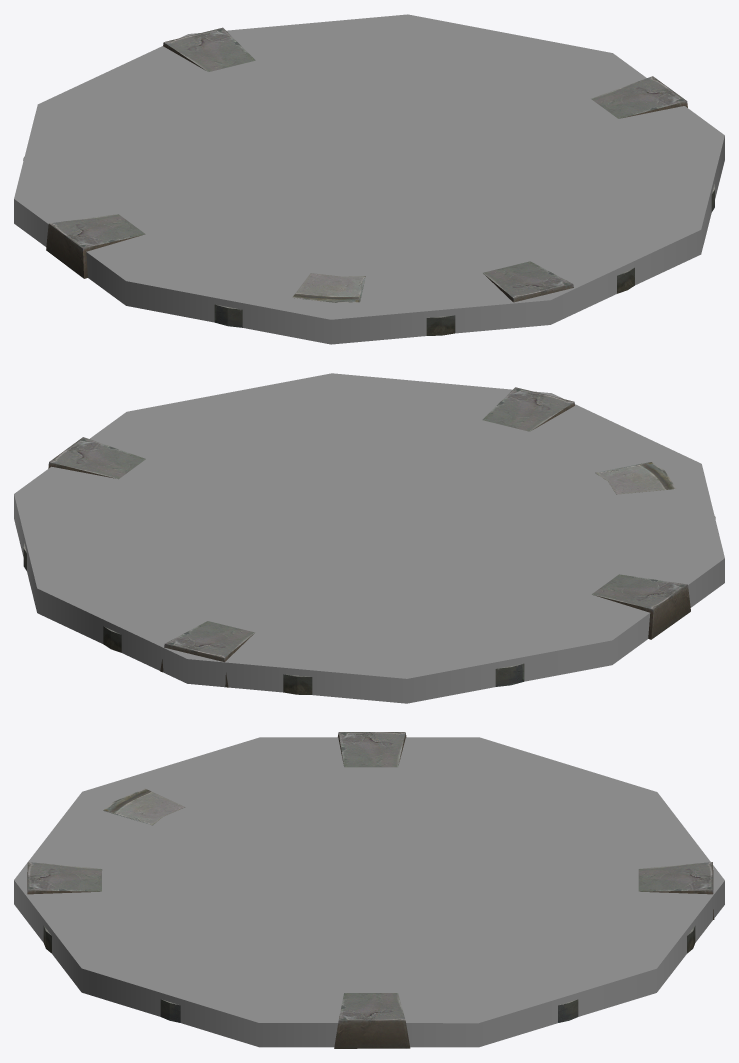
Rendered from Scene_Build_TianShan_ShiTai_03.FBX.
The picture shows the model from 3 angles, top to bottom: view 1: azimuth 30°, elevation 25°; view 2: azimuth 150°, elevation 25°; view 3: azimuth 270°, elevation 25°; orthographic projection. The views are drawn at different scales.
Visible parts, largest first — view 1: Scene_Build_TianShan_ShiTai_03_Xzm, Scene_Build_TianShan_ShiTai_03a; view 2: Scene_Build_TianShan_ShiTai_03_Xzm, Scene_Build_TianShan_ShiTai_03a; view 3: Scene_Build_TianShan_ShiTai_03_Xzm, Scene_Build_TianShan_ShiTai_03a.
Boxes of the visible parts, x1,y1,x2,y2 form: Scene_Build_TianShan_ShiTai_03_Xzm: (14,14,724,344); Scene_Build_TianShan_ShiTai_03a: (23,27,714,335); Scene_Build_TianShan_ShiTai_03_Xzm: (14,373,724,703); Scene_Build_TianShan_ShiTai_03a: (23,387,715,694); Scene_Build_TianShan_ShiTai_03_Xzm: (14,737,724,1047); Scene_Build_TianShan_ShiTai_03a: (27,732,714,1048).
Size of the model in its own units: 1238 by 55.85 by 1286.
